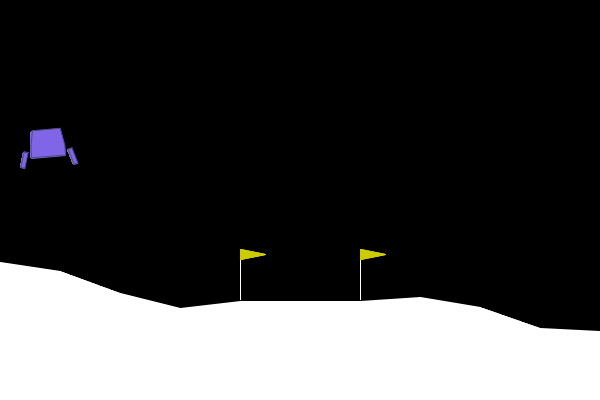lander: (16, 125, 79, 170)
